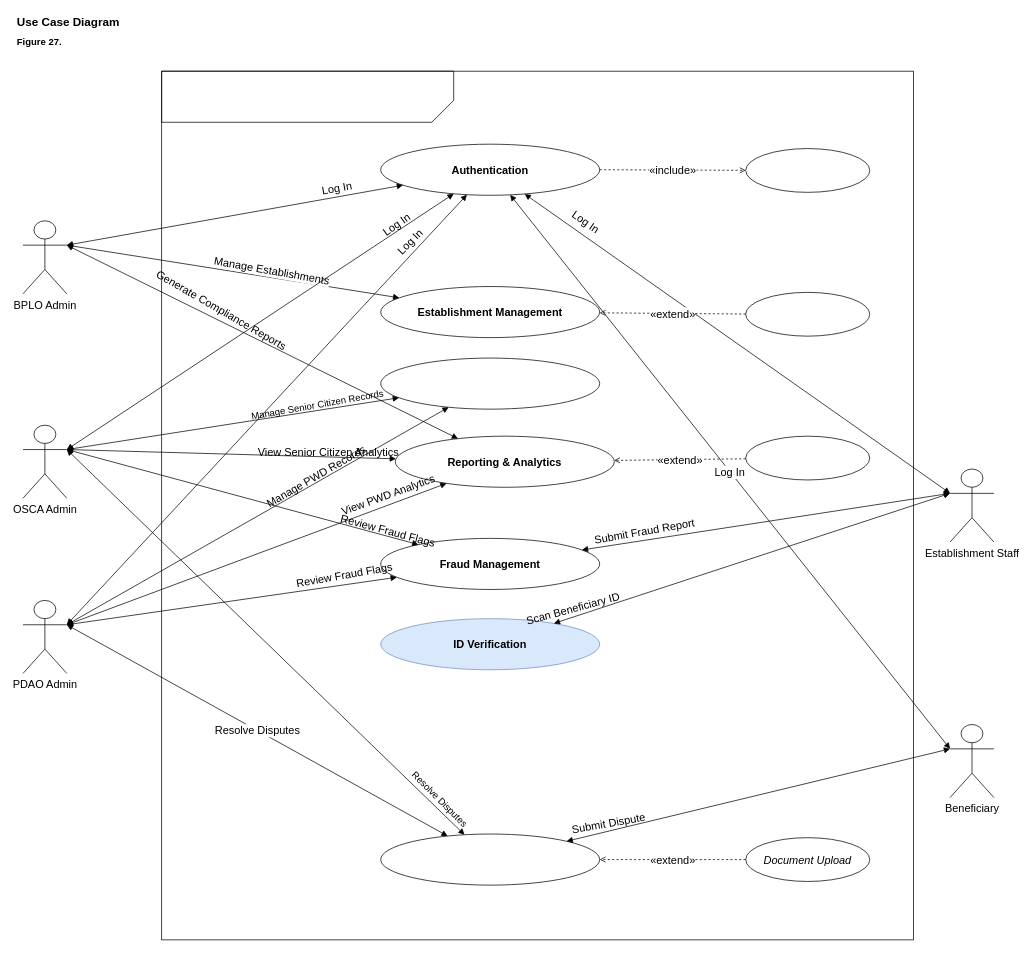
The diagram is 1031 pixels wide and 953 high, and some of its shapes have lost their labels. Here are the shapes that lost their labels. From the top down, the centre of each, then its label:
At point (307, 96): "IDETECT SYSTEM".
At point (807, 170): "OTP Verification".
At point (807, 314): "Bulk Import".
At point (490, 383): "Beneficiary Record Management".
At point (807, 457): "Export CSV Report".
At point (490, 859): "Dispute Resolution".
